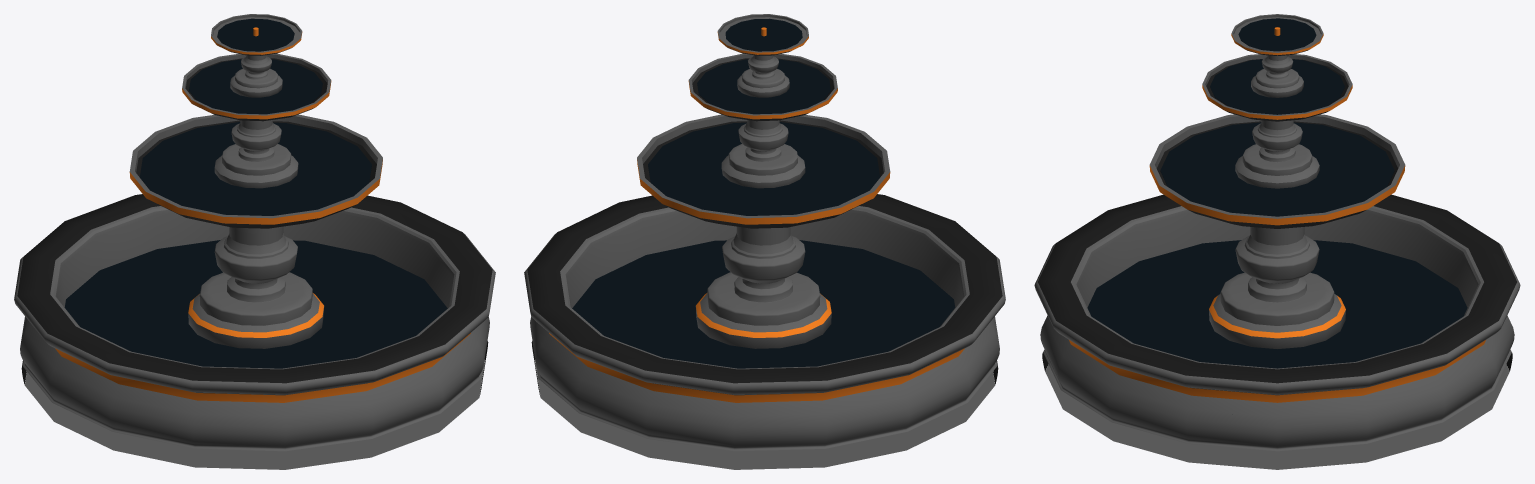
File: Fountain.FBX
3 renders of one model, left to right at view 1: azimuth 30°, elevation 25°; view 2: azimuth 150°, elevation 25°; view 3: azimuth 270°, elevation 25°, orthographic.
Parts seen in each view (by area): view 1: Fountain, Water (×4); view 2: Fountain, Water (×4); view 3: Fountain, Water (×4).
Part boxes in pixels (x1,y1,x2,y2): Fountain: [14, 14, 495, 469]; Water (×4): [64, 18, 447, 368]; Fountain: [524, 14, 1005, 469]; Water (×4): [572, 18, 955, 368]; Fountain: [1034, 14, 1520, 469]; Water (×4): [1087, 18, 1467, 368].
Size of the model in its own units: 45.97 by 45.97 by 35.89.
